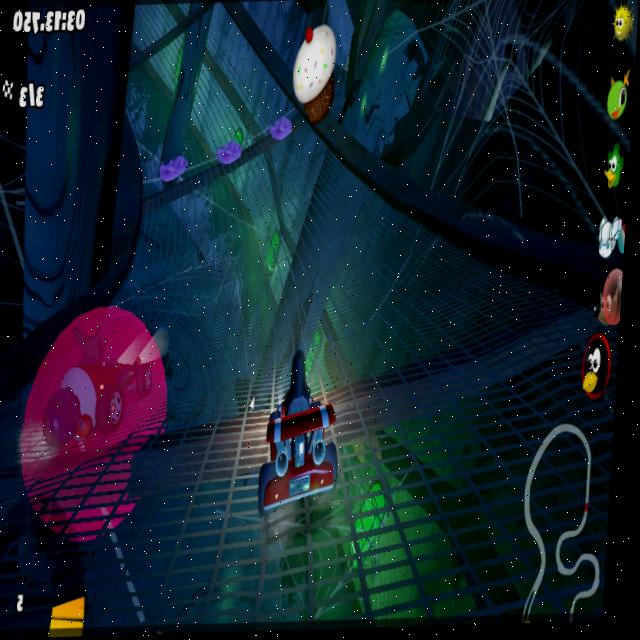obstacle: (215, 131, 248, 169), (155, 155, 187, 190), (268, 110, 290, 150)
player_kart: (252, 354, 344, 526)
track: (0, 491, 607, 640), (335, 296, 621, 489), (0, 367, 230, 502), (224, 161, 273, 494), (116, 5, 222, 140), (48, 288, 238, 357), (267, 173, 357, 308), (131, 185, 241, 278), (347, 223, 434, 299), (427, 238, 492, 306), (215, 61, 269, 135), (353, 193, 385, 222)
